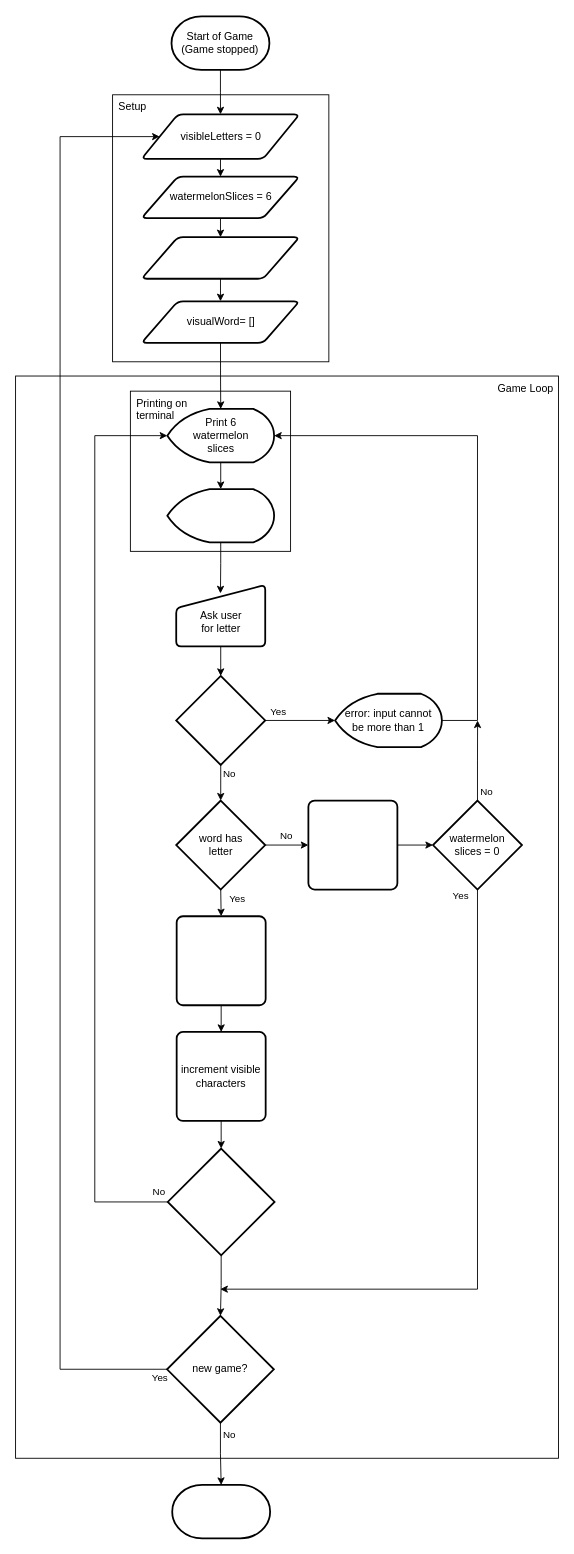
The diagram is 574 pixels wide and 1554 high, and some of its shapes have lost their labels. Here are the shapes that lost their labels. From the top down, the centre of each, then its label:
pixel 220 257: word = getWord()
pixel 220 515: Display visual word
pixel 220 720: input string longer than 1
pixel 352 844: decrement watermelon slice count
pixel 220 960: replace "_" with the letter(s)
pixel 220 1201: visible letter count same as length of word
pixel 221 1511: End of Game (Game stopped)
